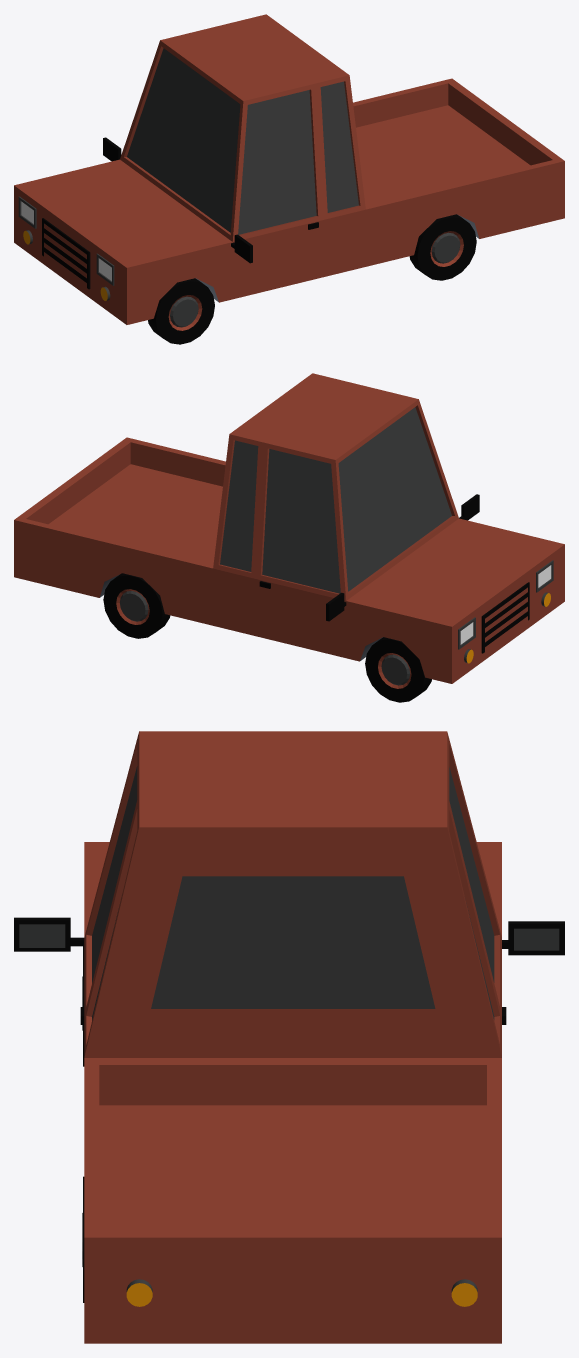
Rendered from car5C.FBX.
3 renders of one model, top to bottom at view 1: azimuth 30°, elevation 25°; view 2: azimuth 150°, elevation 25°; view 3: azimuth 270°, elevation 25°, orthographic. The views are drawn at different scales.
Visible parts, largest first — view 1: car5C; view 2: car5C; view 3: car5C.
Boxes of the visible parts, x1,y1,x2,y2 form: car5C: (14, 14, 564, 344); car5C: (14, 373, 564, 702); car5C: (14, 731, 564, 1343).
Bounding box in the file's own units: 11.38 × 5.22 × 6.6.
